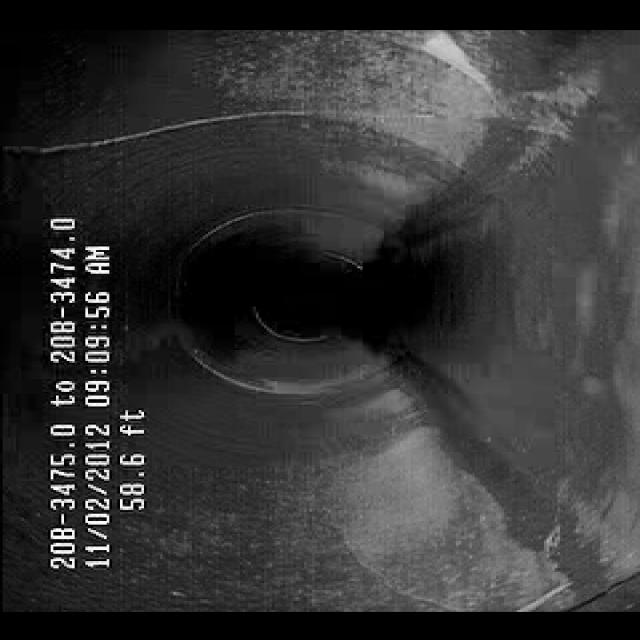Crack: (32, 80, 370, 172)
